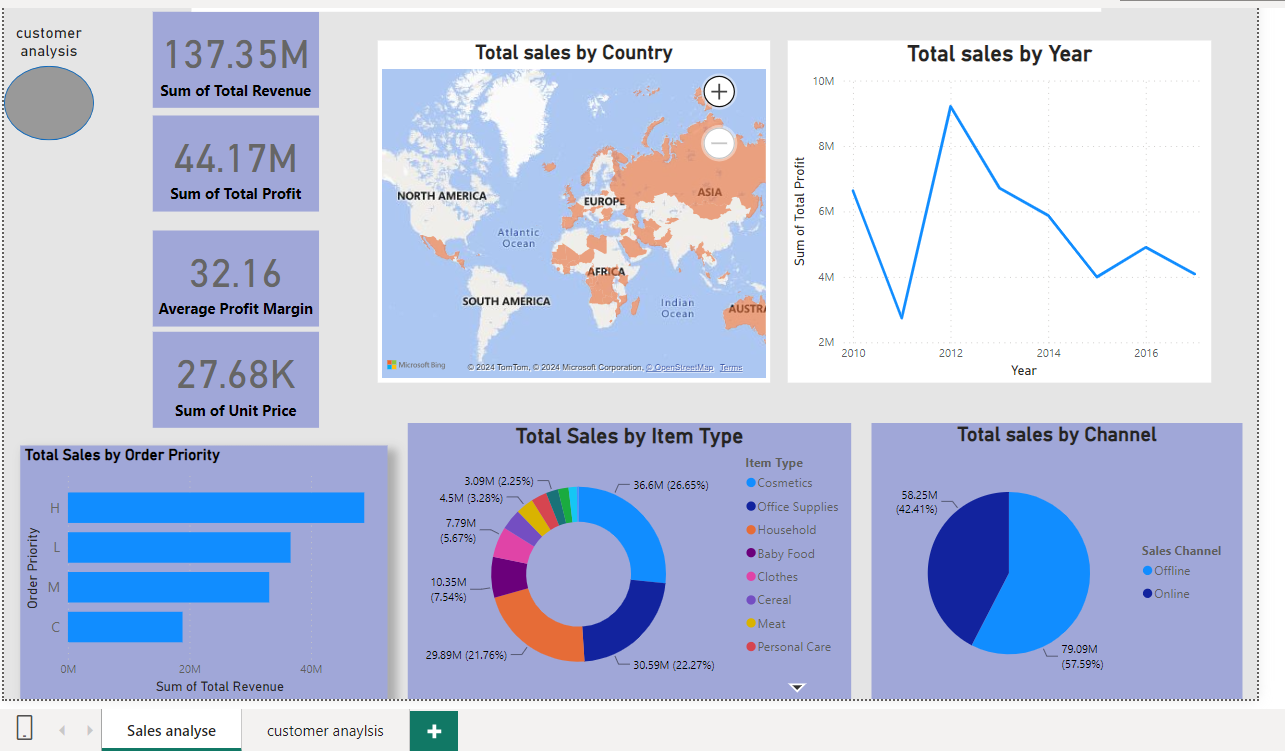

What the dashboard file says about the page in this screenshot:
{"tool":"powerbi","page":{"name":"Sales analyse","canvas":[1357,797],"ordinal":0},"visuals":[{"type":"card","fields":{"Values":["Sum(Amazon Sales data.Total Revenue)"]},"box":[161,52.8,180,104.2],"z":0},{"type":"card","fields":{"Values":["Sum(Amazon Sales data.Total Profit)"]},"box":[161,165.1,180,104.2],"z":1000},{"type":"card","fields":{"Values":["Amazon Sales data.Average Profit Margin"]},"box":[161,289.6,180,104.2],"z":2000},{"type":"card","fields":{"Values":["Sum(Amazon Sales data.Unit Price)"]},"box":[161,399.2,180,104.2],"z":3000},{"type":"barChart","title":" Total Sales by Order Priority","fields":{"Y":["Sum(Amazon Sales data.Total Revenue)"],"Category":["Amazon Sales data.Order Priority"]},"box":[17.6,522.3,397.8,274.7],"z":4000},{"type":"donutChart","title":"Total Sales by Item Type","fields":{"Category":["Amazon Sales data.Item Type"],"Y":["Sum(Amazon Sales data.Total Revenue)"]},"box":[437.1,498,480.4,299],"z":5000},{"type":"pieChart","title":"Total sales by Channel","fields":{"Category":["Amazon Sales data.Sales Channel"],"Y":["Sum(Amazon Sales data.Total Revenue)"]},"box":[939.1,498,401.9,299],"z":6000},{"type":"lineChart","title":" Total sales by Year","fields":{"Y":["Sum(Amazon Sales data.Total Profit)"],"Category":["Amazon Sales data.Order Date.Variation.Date Hierarchy.Year","Amazon Sales data.Order Date.Variation.Date Hierarchy.Quarter","Amazon Sales data.Order Date.Variation.Date Hierarchy.Month","Amazon Sales data.Order Date.Variation.Date Hierarchy.Day"]},"box":[848.4,83.9,458.7,370.8],"z":7000},{"type":"filledMap","title":" Total sales  by Country","fields":{"Category":["Amazon Sales data.Country"]},"box":[404.6,83.9,424.9,370.8],"z":8000},{"type":"textbox","box":[202.8,0,985,52.4],"z":9000},{"type":"shape","title":"customer analysis","box":[0,65,97.4,127.2],"z":10000}]}

Visuals, with their boxes in screenshot pixels (x1, y1, x2, y2):
card - Sum(Amazon Sales data.Total Revenue): detection(149, 5, 316, 102)
card - Sum(Amazon Sales data.Total Profit): detection(149, 110, 316, 206)
card - Amazon Sales data.Average Profit Margin: detection(149, 225, 316, 322)
card - Sum(Amazon Sales data.Unit Price): detection(149, 327, 316, 423)
" Total Sales by Order Priority" barChart: detection(16, 441, 385, 696)
"Total Sales by Item Type" donutChart: detection(405, 418, 851, 696)
"Total sales by Channel" pieChart: detection(871, 418, 1244, 696)
" Total sales by Year" lineChart: detection(787, 34, 1212, 378)
" Total sales  by Country" filledMap: detection(375, 34, 769, 378)
textbox: detection(188, 0, 1102, 5)
"customer analysis" shape: detection(0, 17, 90, 135)
